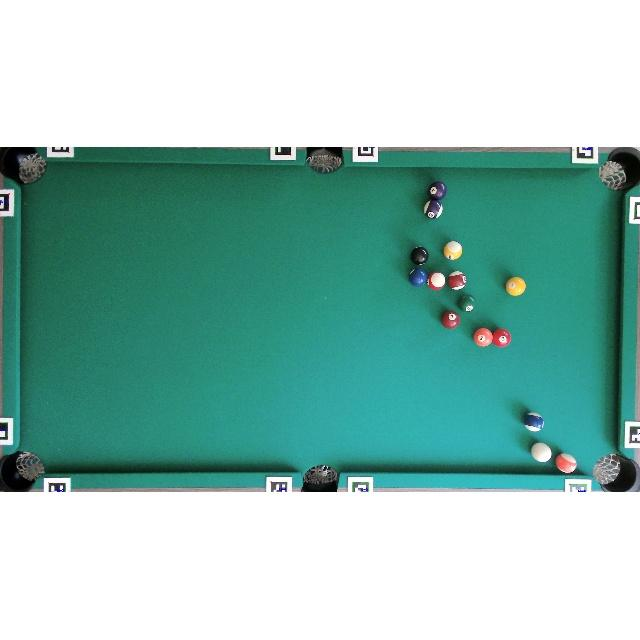cue ball: (530, 442, 552, 463)
other: (555, 454, 578, 474), (523, 412, 544, 432), (506, 277, 526, 296), (441, 310, 460, 330), (473, 328, 493, 347), (428, 181, 448, 200), (492, 328, 511, 348), (443, 241, 462, 260), (448, 271, 467, 290), (424, 200, 443, 219), (458, 294, 476, 312), (409, 268, 427, 286), (427, 272, 445, 290), (411, 246, 428, 265)
